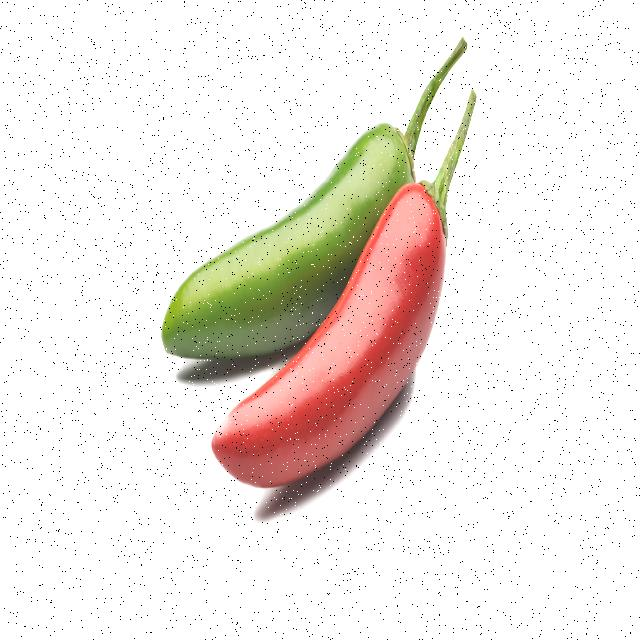Chili Pepper: (195, 185, 456, 503), (137, 93, 430, 364)
